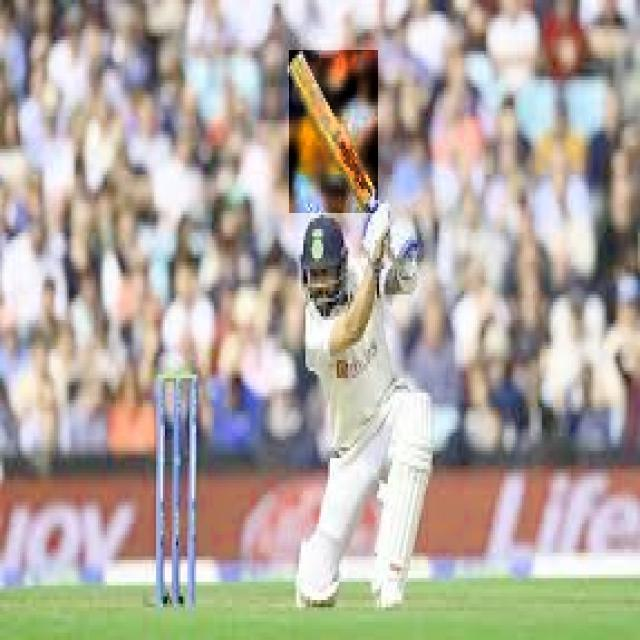bat: (290, 51, 381, 215)
toe: (282, 49, 315, 68)
